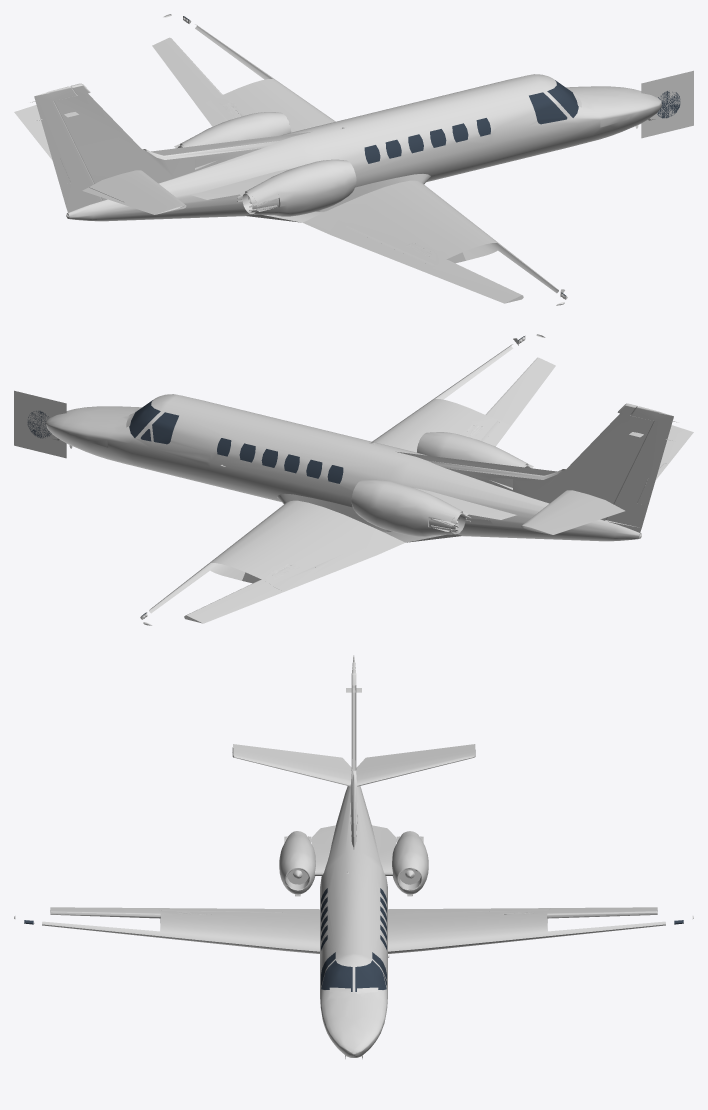
3 renders of one model, top to bottom at view 1: azimuth 30°, elevation 25°; view 2: azimuth 150°, elevation 25°; view 3: azimuth 270°, elevation 25°, orthographic. The views are drawn at different scales.
Visible parts, largest first — view 1: body, glass; view 2: body, glass; view 3: body, glass.
Boxes of the visible parts, <box> form: body: <box>14,14,693,305</box>; glass: <box>183,16,680,295</box>; body: <box>14,334,693,625</box>; glass: <box>27,336,524,615</box>; body: <box>14,655,693,1057</box>; glass: <box>24,888,683,991</box>.
Bounding box in the file's own units: 2.15 × 0.5889 × 2.2.
